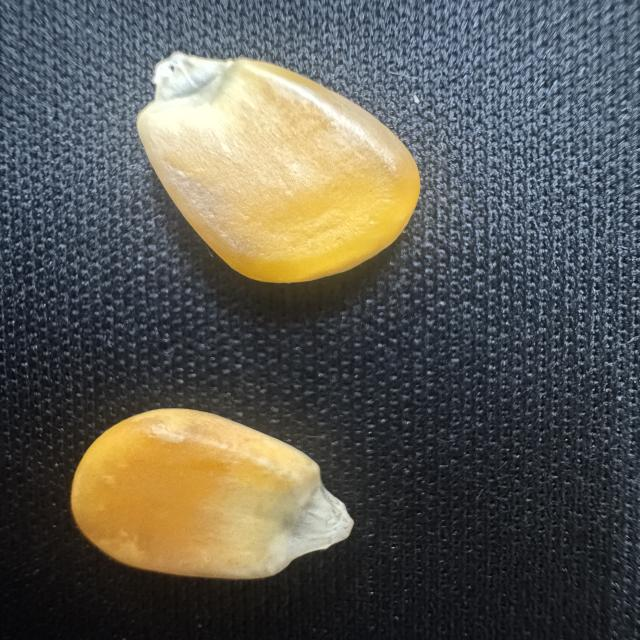Good-Seed: (123, 45, 421, 290), (64, 400, 368, 590)
